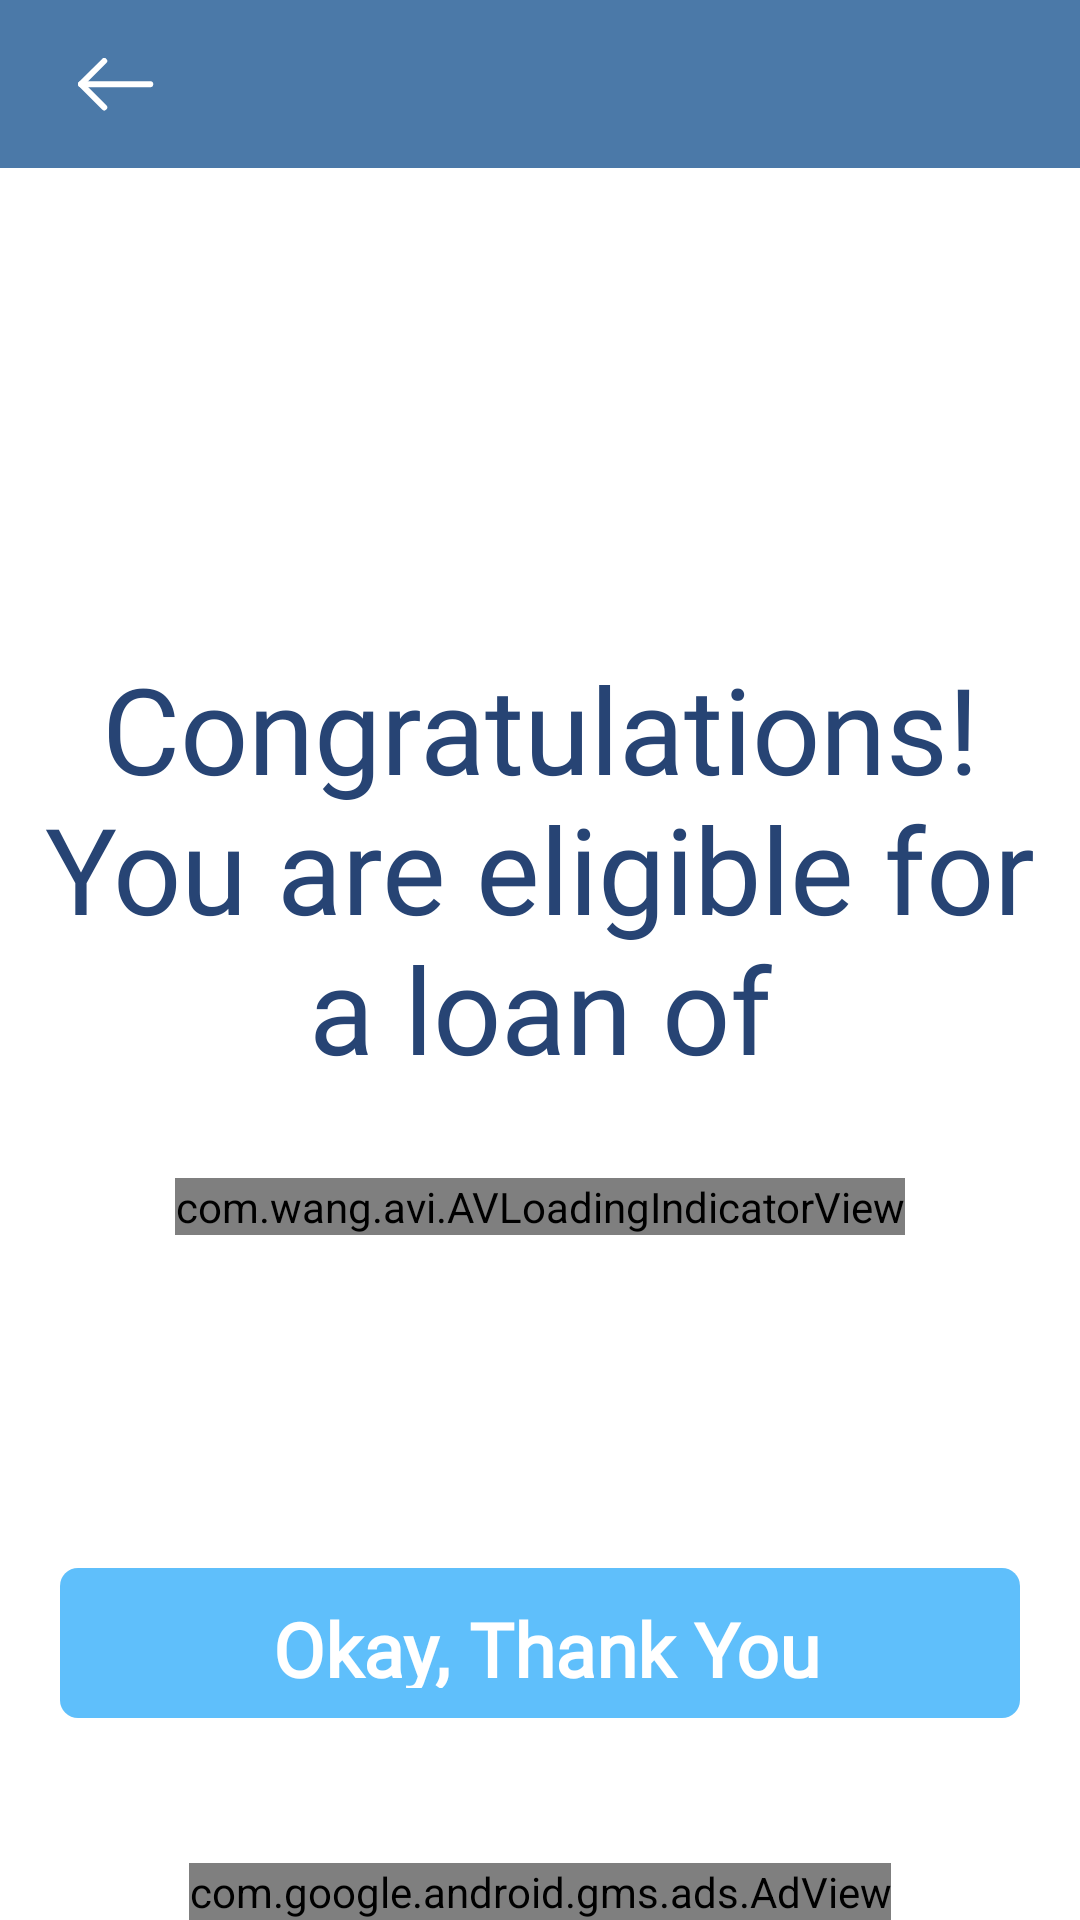

Named icons in this screenshot (1080 × 1920) and their bounding boxes, (x1, y1, x2, y2):
back: (78, 58, 154, 111)
